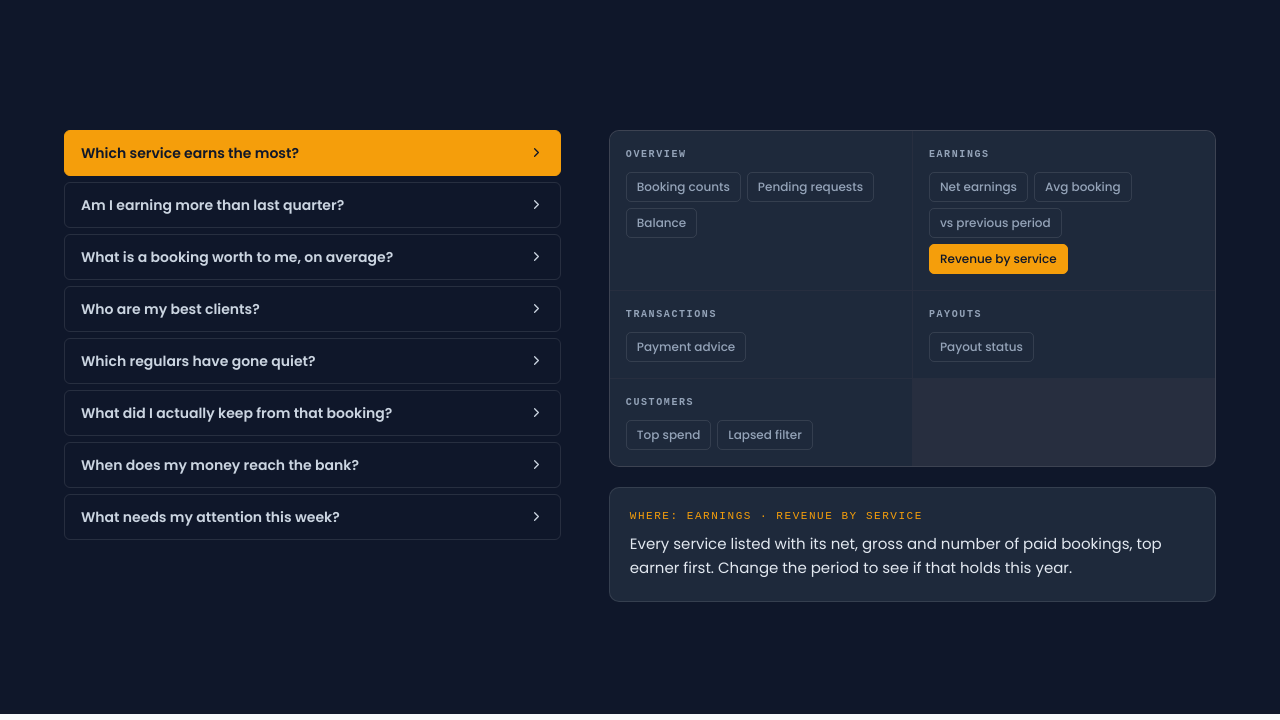
Analytics feature page › highlights the metric that answers the picked question
(page scrolled)
Step 1. Click the button "Which regulars have gone quiet?" → (312, 360), box left=64, top=338, right=561, bottom=384
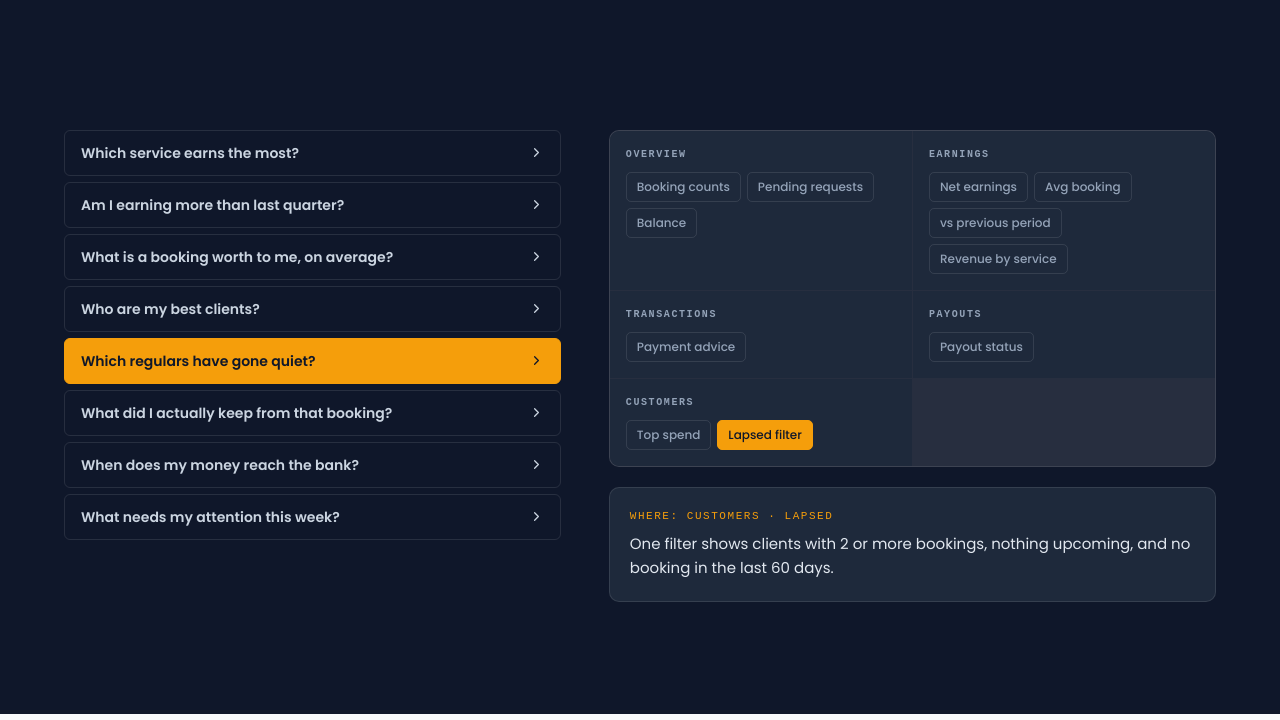
Now the text "Where: Customers · Lapsed" is shown, box left=630, top=510, right=833, bottom=522
